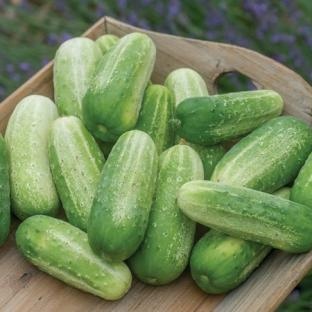Cucumber: (129, 145, 203, 284), (16, 216, 131, 300), (177, 181, 311, 253), (88, 130, 158, 260), (83, 33, 155, 142), (211, 117, 311, 192), (5, 95, 59, 219), (49, 116, 104, 231), (174, 91, 282, 144), (190, 230, 271, 293), (54, 38, 102, 117), (136, 85, 174, 154), (181, 139, 226, 180), (165, 68, 208, 109), (0, 134, 10, 246), (290, 154, 311, 207), (96, 34, 119, 54), (95, 138, 115, 158), (273, 187, 291, 200)
